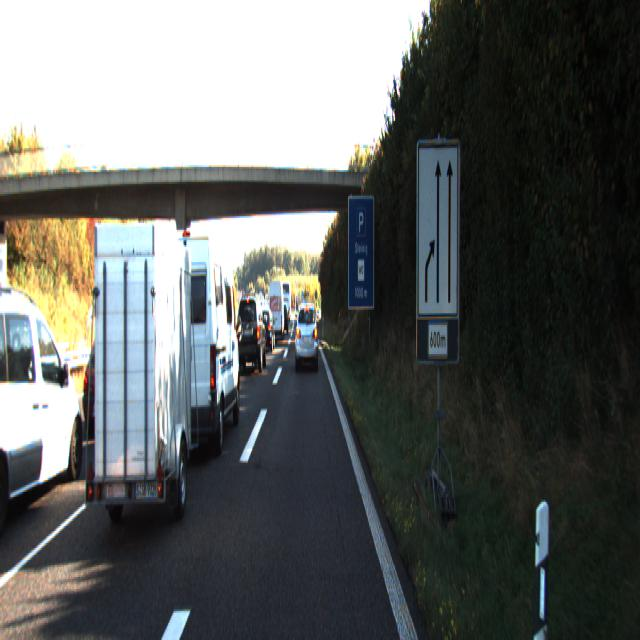Car: (81, 215, 200, 544), (0, 284, 88, 533), (155, 223, 242, 461), (83, 326, 153, 437), (235, 293, 266, 373), (295, 298, 318, 368), (268, 274, 284, 335), (257, 305, 275, 350)
